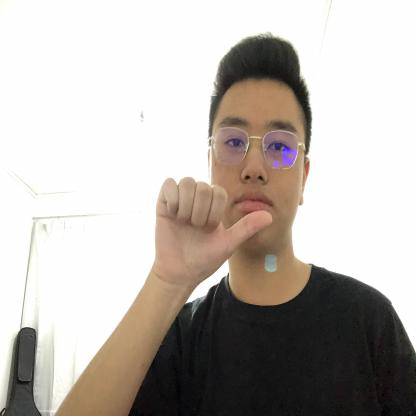left: (152, 175, 274, 279)
